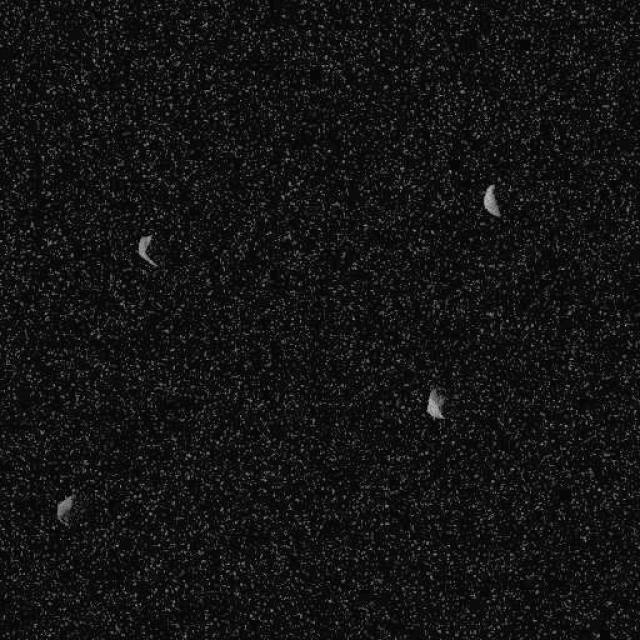D2: (136, 232, 159, 268), (425, 386, 446, 420), (481, 182, 500, 218), (55, 493, 75, 525)
